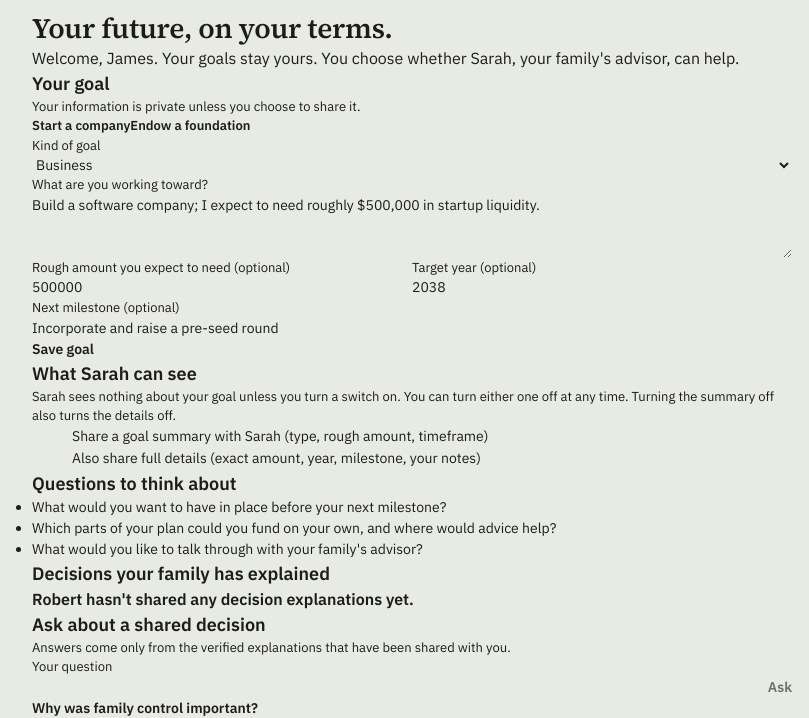
GoalCheckIn › shows the server's message when it refuses the goal
Click the button "Save goal".
click(63, 349)  # box [32,339,94,360]
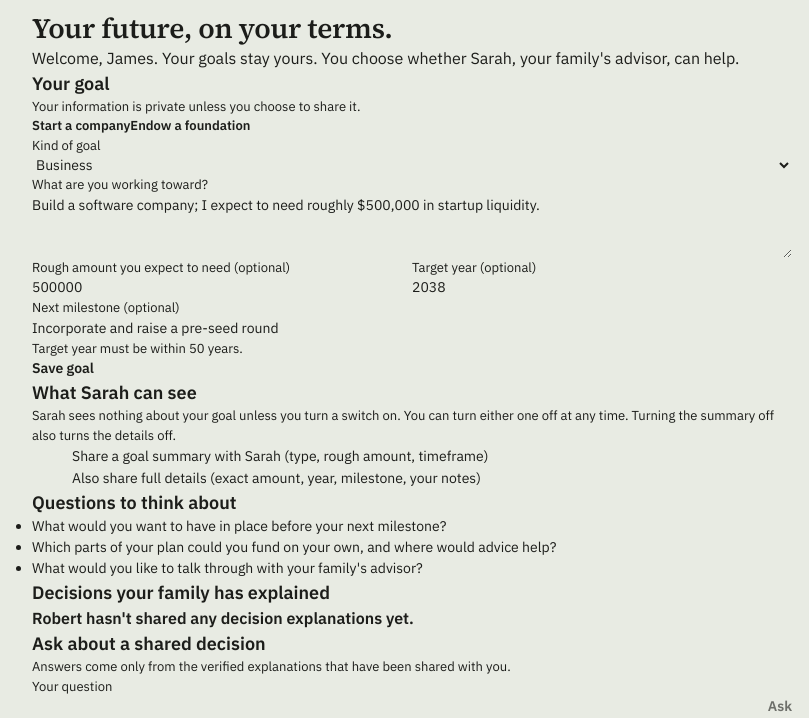
expect the message reads "Target year must be within 50 years.": met, box [32,340,243,357]
